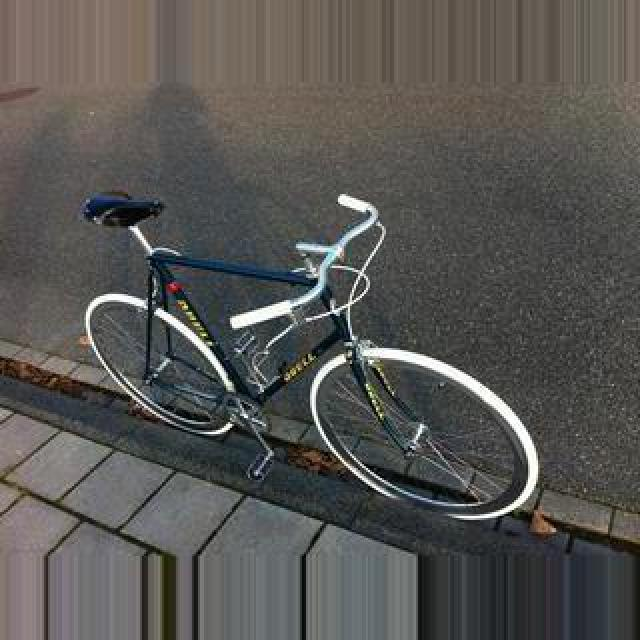Person: (65, 193, 551, 529)
